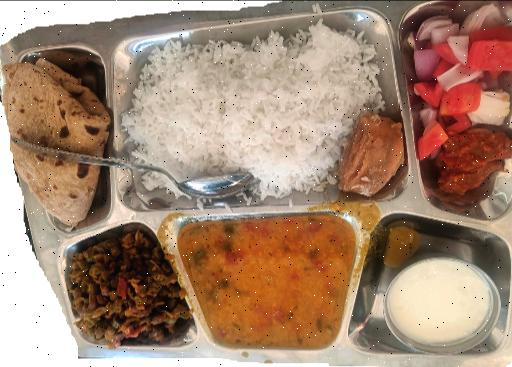Curd: (385, 258, 503, 352)
Dal: (190, 217, 350, 340)
Pickle: (444, 138, 512, 206)
Rice: (124, 31, 378, 192)
Roti: (4, 61, 114, 228)
Salad: (412, 6, 512, 128)
Sweet: (340, 112, 408, 194)
Vegetable: (66, 226, 184, 346)
